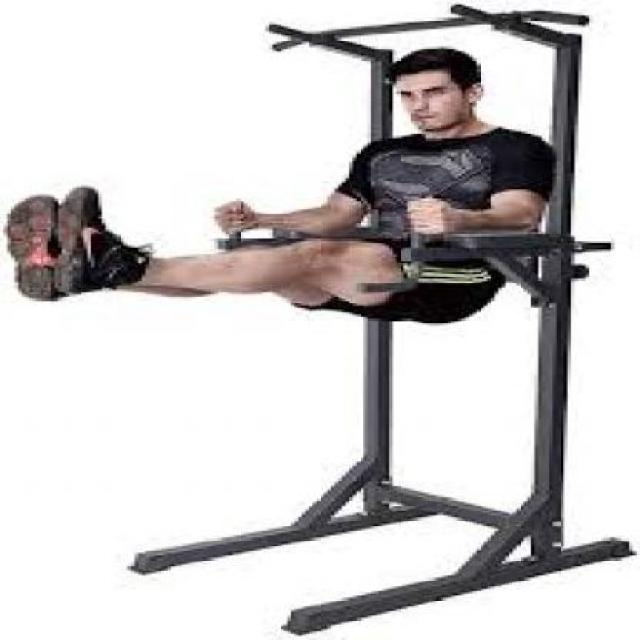chinning dipping: (123, 3, 626, 637)
